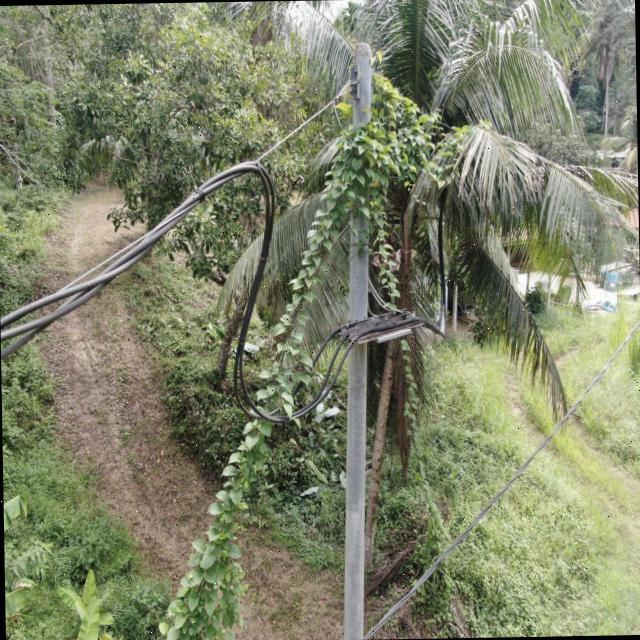critical vegetation: (144, 53, 434, 640)
